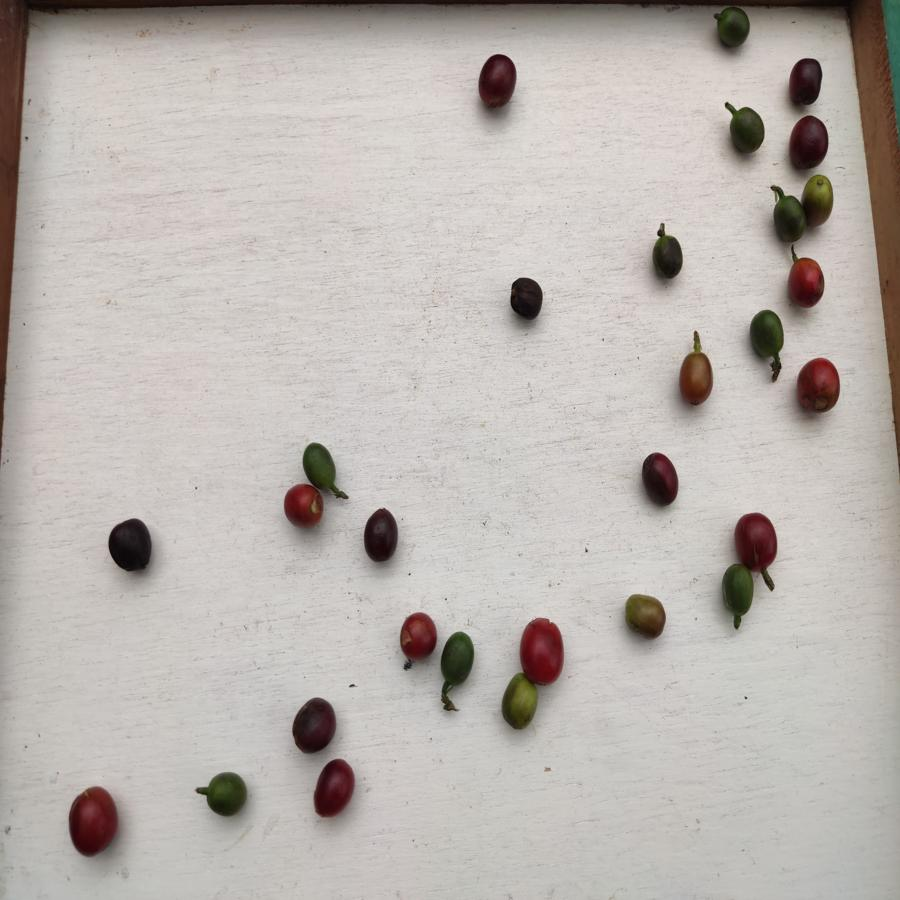Inmaduro: (201, 770, 254, 817), (440, 629, 476, 692), (748, 307, 787, 360), (727, 107, 767, 157), (721, 566, 756, 623), (300, 443, 338, 490), (714, 6, 751, 52), (649, 235, 686, 280), (773, 192, 803, 244)
Maduro: (520, 617, 568, 685), (795, 357, 841, 415), (394, 610, 438, 661), (785, 258, 830, 307), (283, 485, 331, 527)
Pinton: (624, 589, 667, 643), (498, 673, 538, 731), (677, 351, 715, 406), (803, 174, 834, 226)
Sobremaduro: (64, 785, 121, 859), (290, 694, 338, 755), (735, 511, 780, 572), (311, 759, 357, 818), (107, 518, 153, 575), (477, 51, 518, 111), (638, 452, 682, 507), (789, 115, 831, 171), (363, 507, 399, 562), (787, 56, 824, 107), (506, 277, 545, 321)
